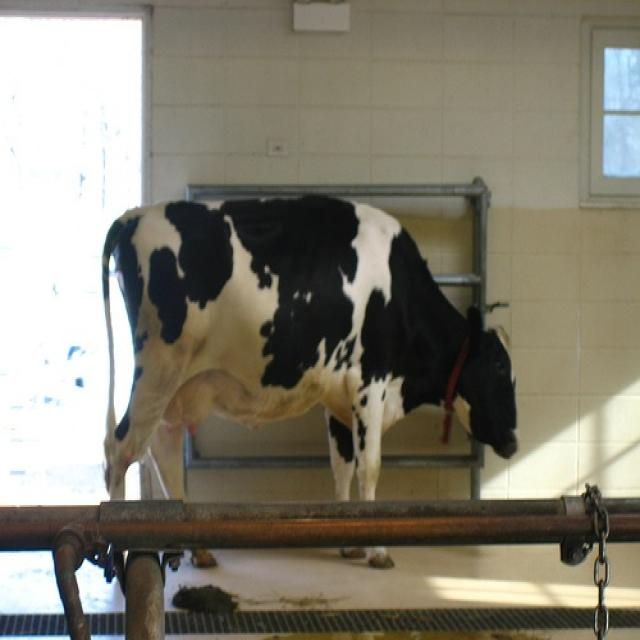cow: (82, 198, 525, 590)
